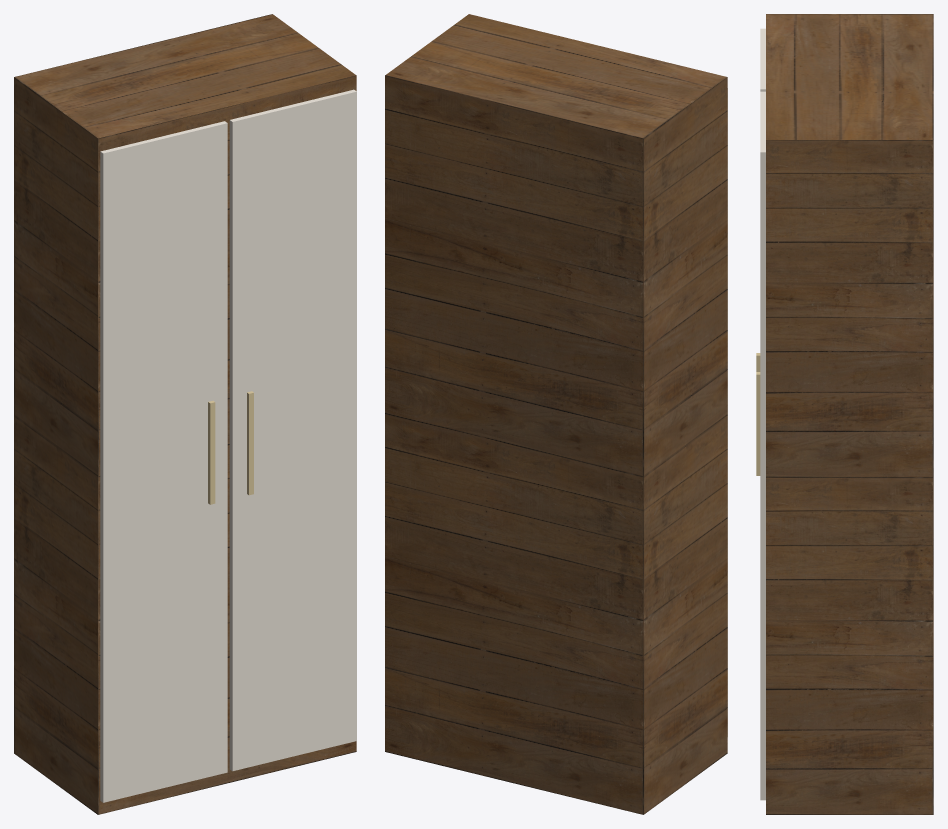
The model's file is armario_alto_80.glb.
3 renders of one model, left to right at view 1: azimuth 30°, elevation 25°; view 2: azimuth 150°, elevation 25°; view 3: azimuth 270°, elevation 25°, orthographic.
Parts seen in each view (by area): view 1: armario_alto_80; view 2: armario_alto_80; view 3: armario_alto_80.
Part boxes in pixels (x1,y1,x2,y2): armario_alto_80: (14,14,356,814); armario_alto_80: (385,14,727,814); armario_alto_80: (756,14,933,814).
Bounding box in the file's own units: 0.8 × 2 × 0.476.
3 materials, 1 textured.
